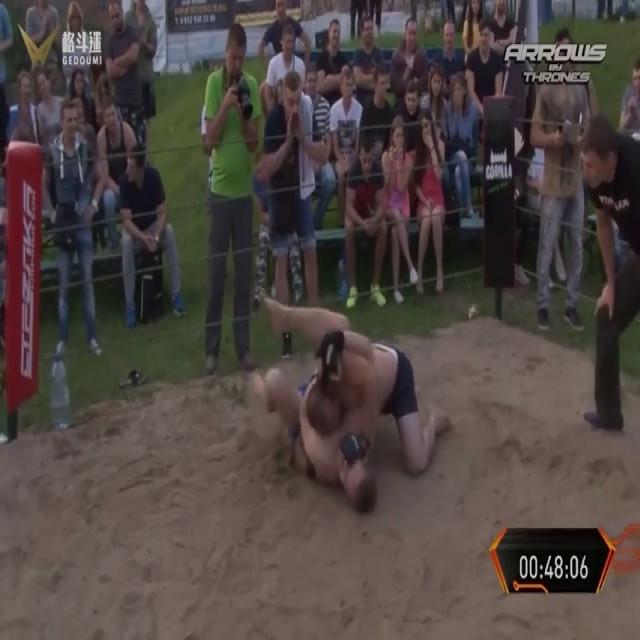fight: (246, 287, 457, 517)
non-fight: (529, 31, 603, 338), (581, 68, 639, 457), (200, 21, 262, 375), (262, 70, 328, 364), (116, 131, 179, 324), (410, 107, 448, 296), (444, 62, 479, 222)
